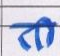i_matra: (41, 17, 53, 46)
